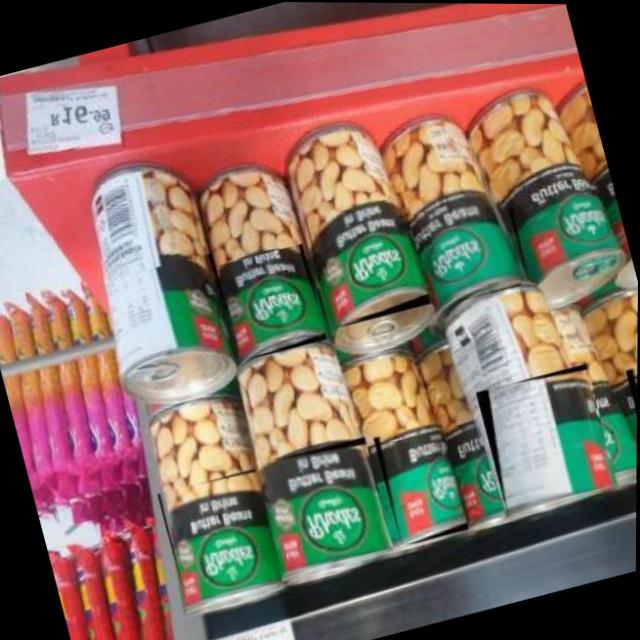Beans: (473, 358, 619, 511), (256, 432, 395, 573), (302, 188, 431, 328), (156, 465, 284, 601), (407, 170, 523, 306), (102, 249, 235, 367), (167, 477, 283, 599), (216, 240, 329, 360), (371, 416, 470, 545), (506, 179, 619, 275), (623, 359, 638, 470)
